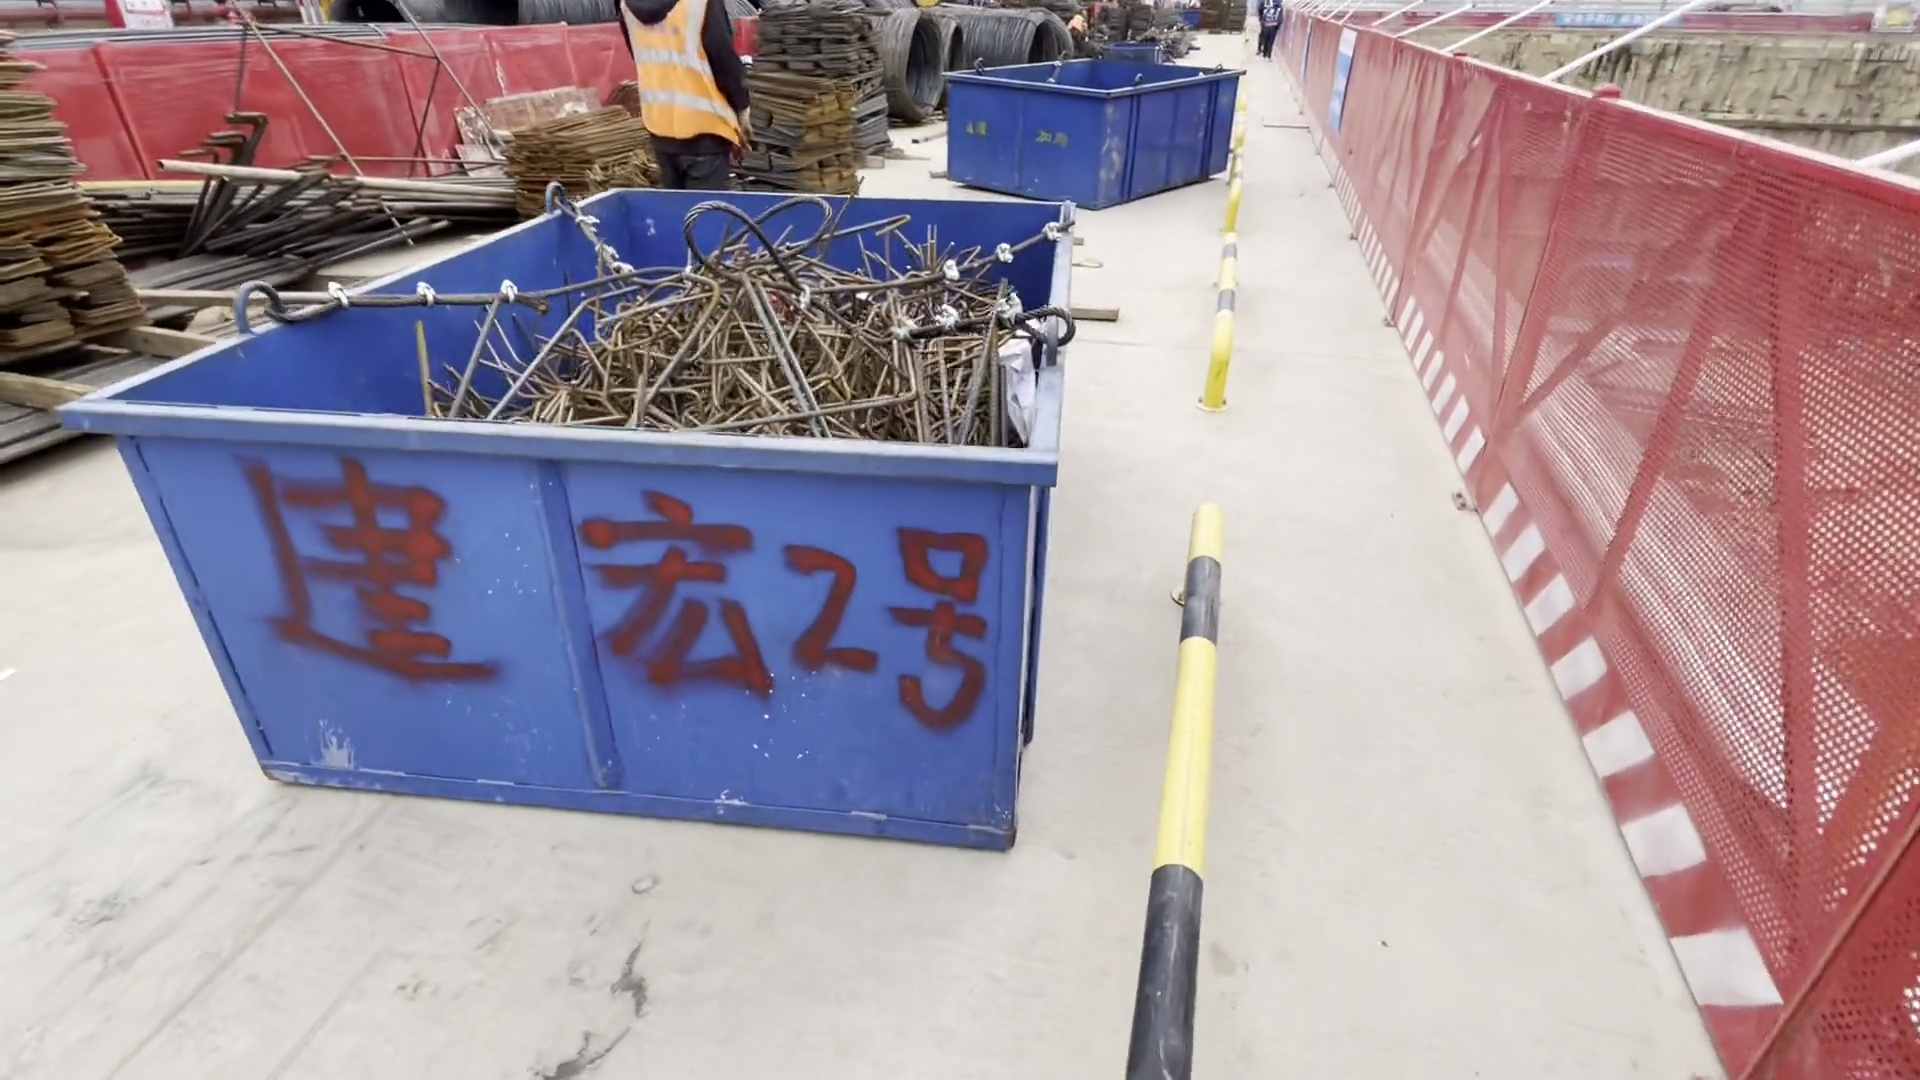fence: (1286, 19, 1919, 1080)
hopper: (86, 174, 1130, 859), (916, 54, 1262, 209)
person: (618, 1, 753, 193), (1258, 1, 1280, 59)
vest: (628, 1, 751, 150)
